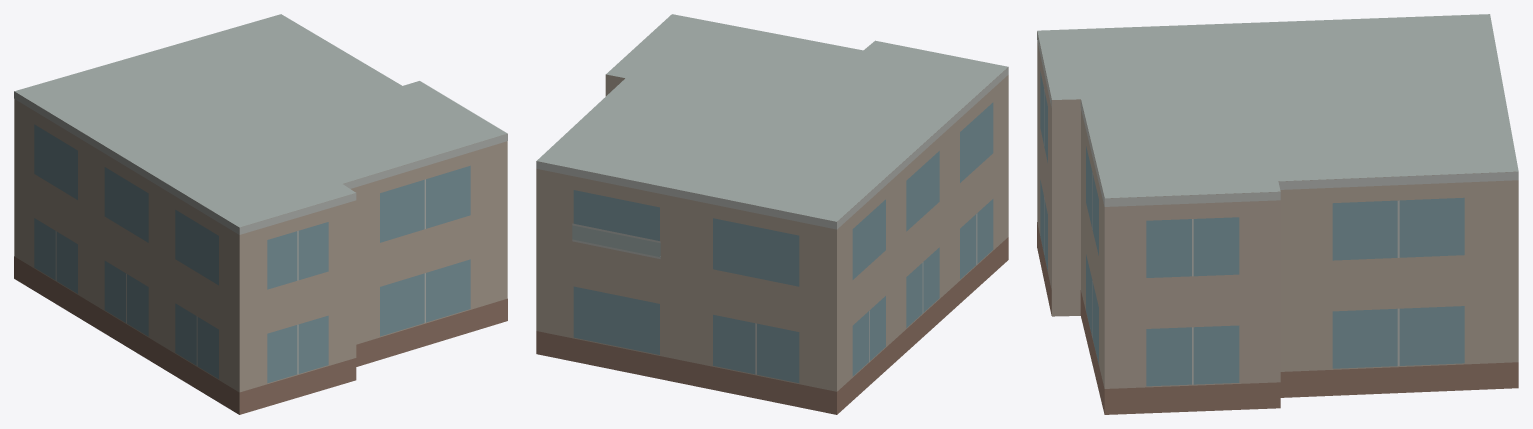
The model's file is survey-upis-33037192.glb.
3 renders of one model, left to right at view 1: azimuth 30°, elevation 25°; view 2: azimuth 150°, elevation 25°; view 3: azimuth 270°, elevation 25°, orthographic. The views are drawn at different scales.
Parts seen in each view (by area): view 1: survey-upis-33037192.tmp; view 2: survey-upis-33037192.tmp; view 3: survey-upis-33037192.tmp.
Part boxes in pixels (x1=…): survey-upis-33037192.tmp: x1=14, y1=14, x2=507, y2=414; survey-upis-33037192.tmp: x1=536, y1=14, x2=1008, y2=414; survey-upis-33037192.tmp: x1=1037, y1=14, x2=1518, y2=414.
Size of the model in its own units: 11.15 by 6.1 by 12.31.
